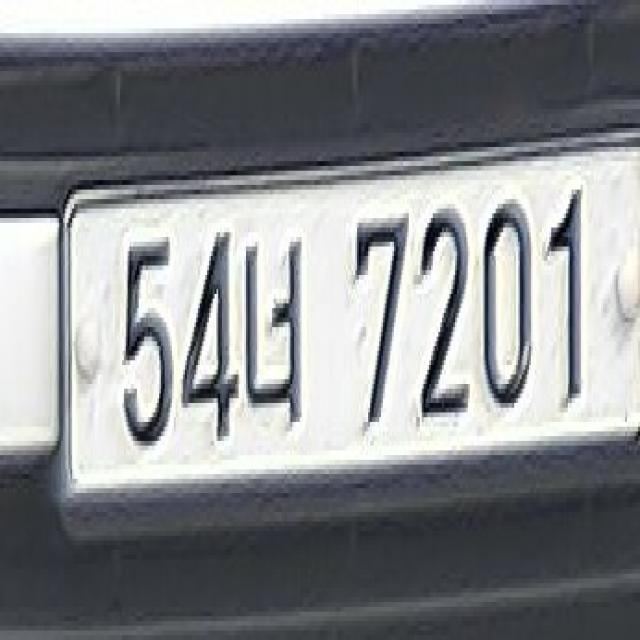0: (479, 185, 538, 436)
1: (544, 161, 584, 422)
2: (414, 185, 470, 455)
4: (177, 228, 248, 470)
5: (115, 213, 181, 474)
7: (352, 199, 412, 432)
license_plate: (55, 133, 640, 564)
neo: (238, 228, 314, 436)
